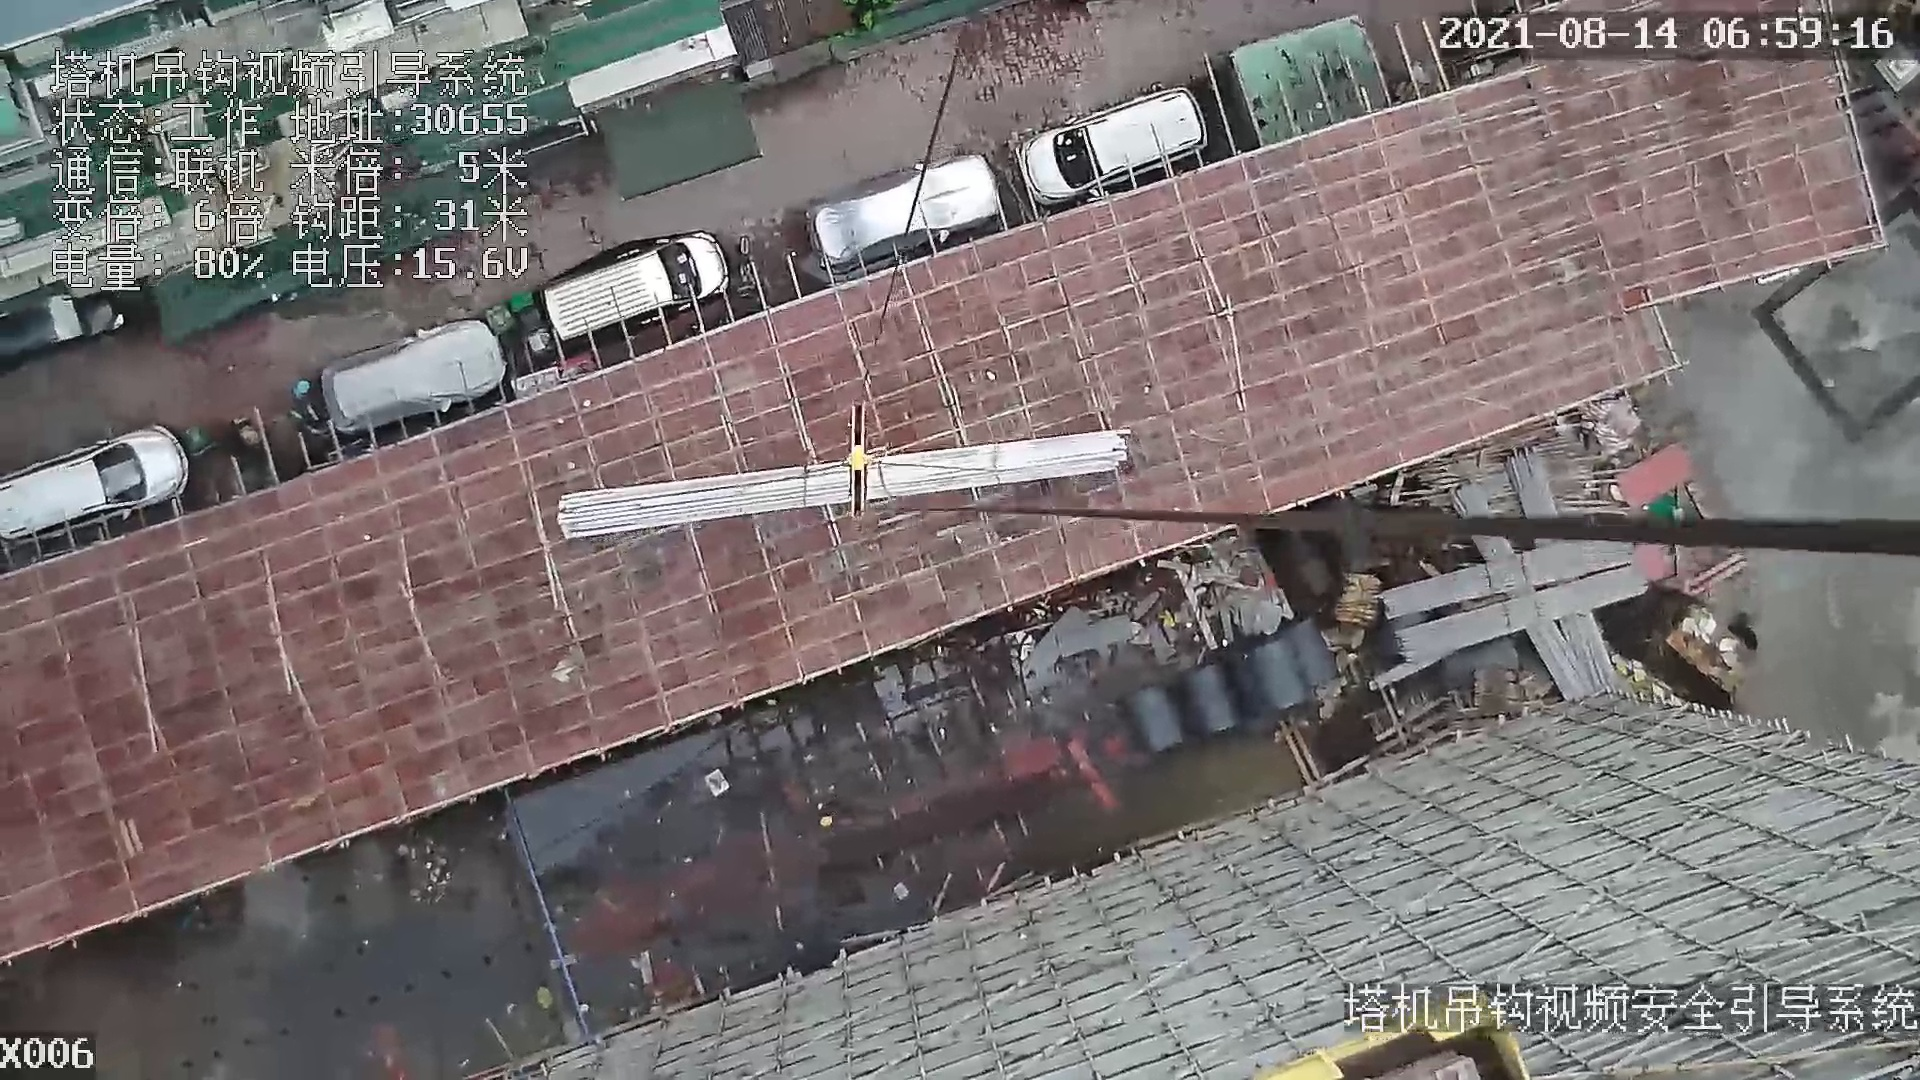hook: (837, 396, 881, 530)
rebar: (556, 423, 1124, 537), (1451, 484, 1586, 699), (1509, 451, 1618, 690), (1396, 564, 1648, 665), (1382, 541, 1639, 624)
wood: (1335, 574, 1383, 624)
